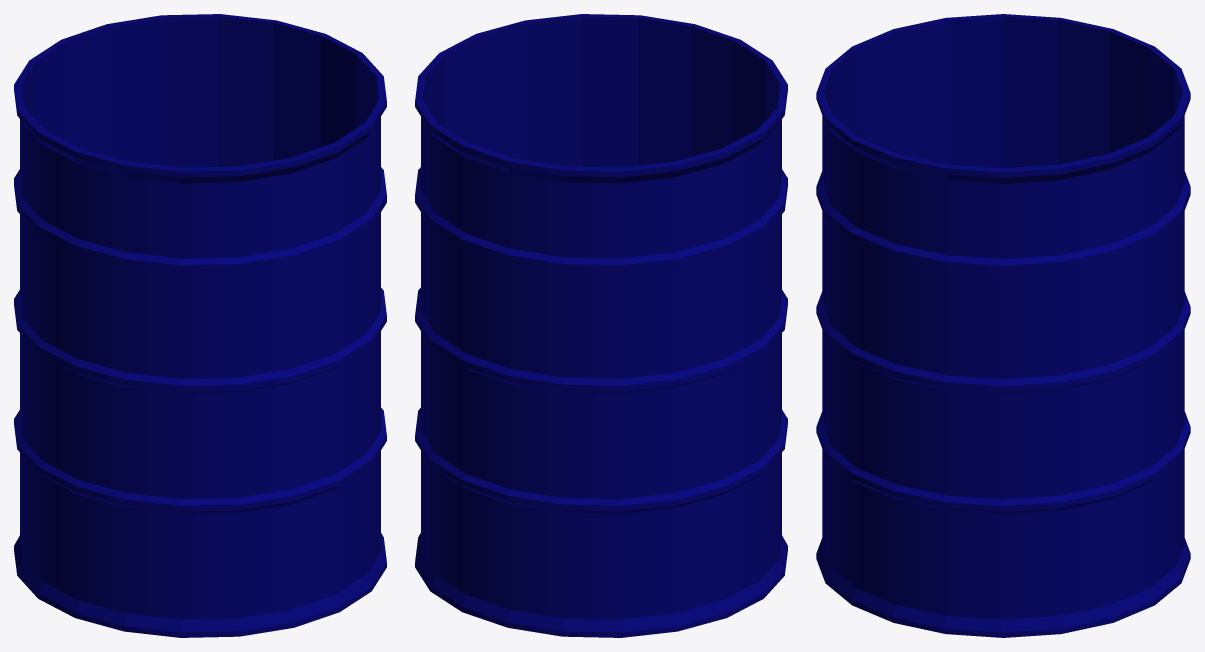
File: Oil Drum_Part empty.fbx
3 views of the same model, side by side, from view 1: azimuth 30°, elevation 25°; view 2: azimuth 150°, elevation 25°; view 3: azimuth 270°, elevation 25° (orthographic).
Visible parts, largest first — view 1: pCylinder1; view 2: pCylinder1; view 3: pCylinder1.
Part boxes in pixels (x1=…): pCylinder1: x1=14, y1=14, x2=386, y2=637; pCylinder1: x1=415, y1=14, x2=787, y2=637; pCylinder1: x1=816, y1=14, x2=1190, y2=637.
Bounding box in the file's own units: 7.53 × 10.35 × 7.53.
